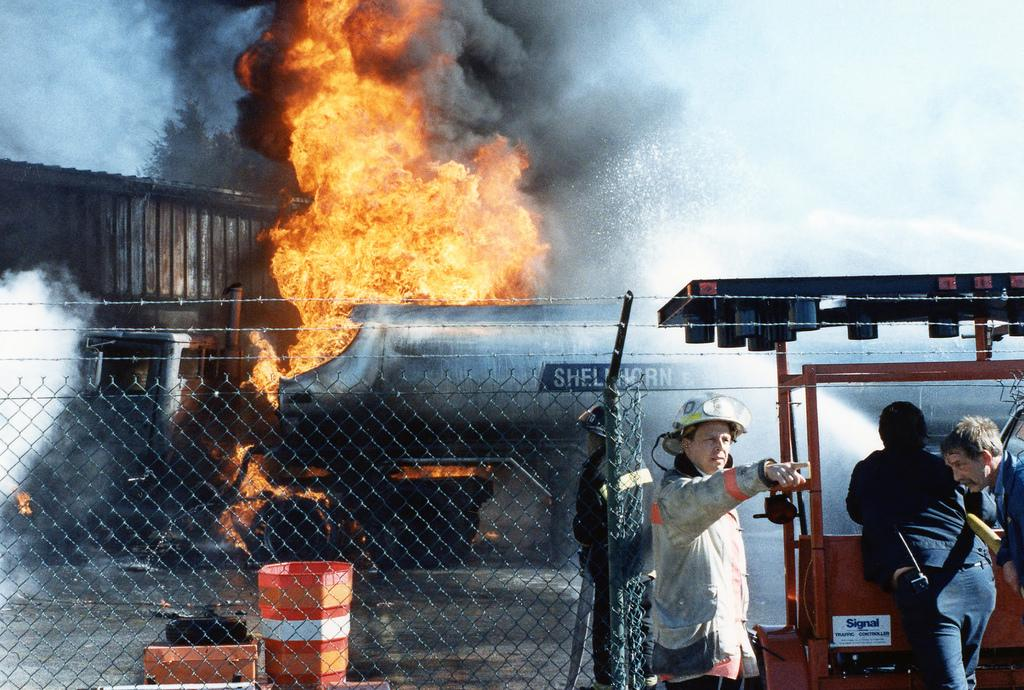fire: (308, 172, 515, 297), (297, 10, 427, 172)
